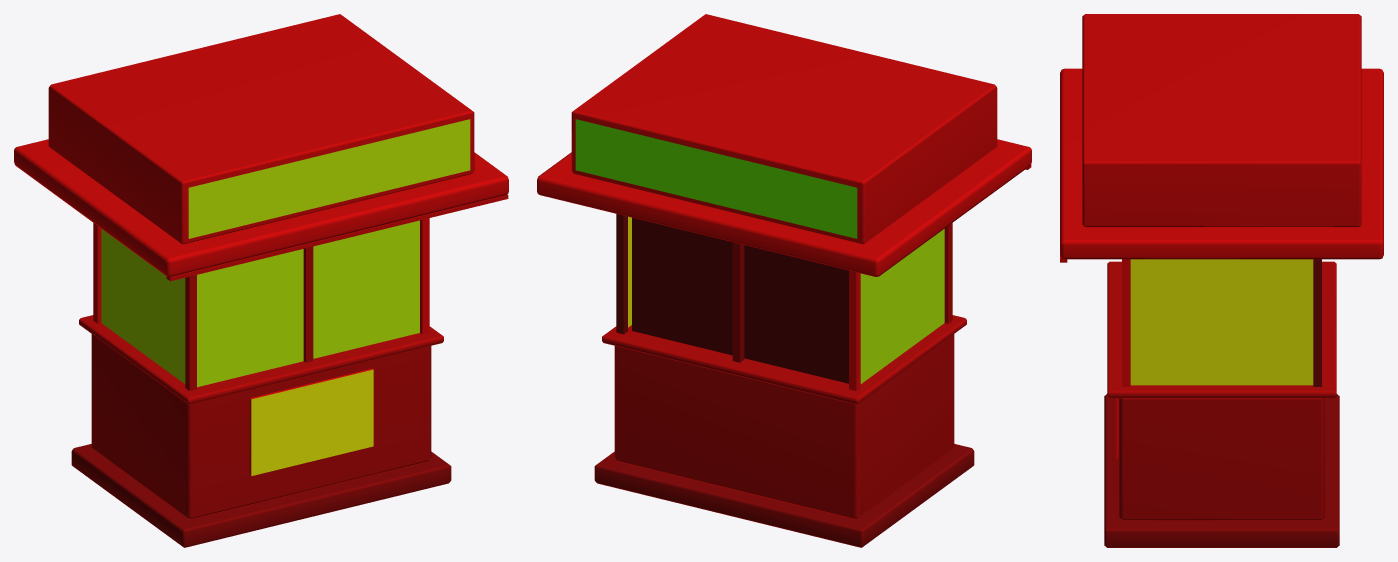
Rendered from kiosk_a.glb.
3 views of the same model, side by side, from view 1: azimuth 30°, elevation 25°; view 2: azimuth 150°, elevation 25°; view 3: azimuth 270°, elevation 25° (orthographic). The views are drawn at different scales.
Visible parts, largest first — view 1: kiosk_a; view 2: kiosk_a; view 3: kiosk_a.
Part boxes in pixels (<box>): kiosk_a: <box>14,14,508,547</box>; kiosk_a: <box>537,14,1031,547</box>; kiosk_a: <box>1060,14,1383,547</box>.
Size of the model in its own units: 2.8 by 2.95 by 2.2.
